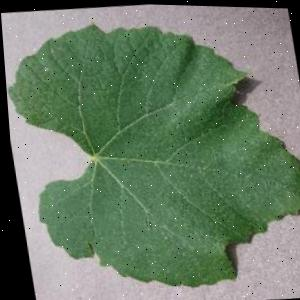Folha: (0, 1, 300, 300)
